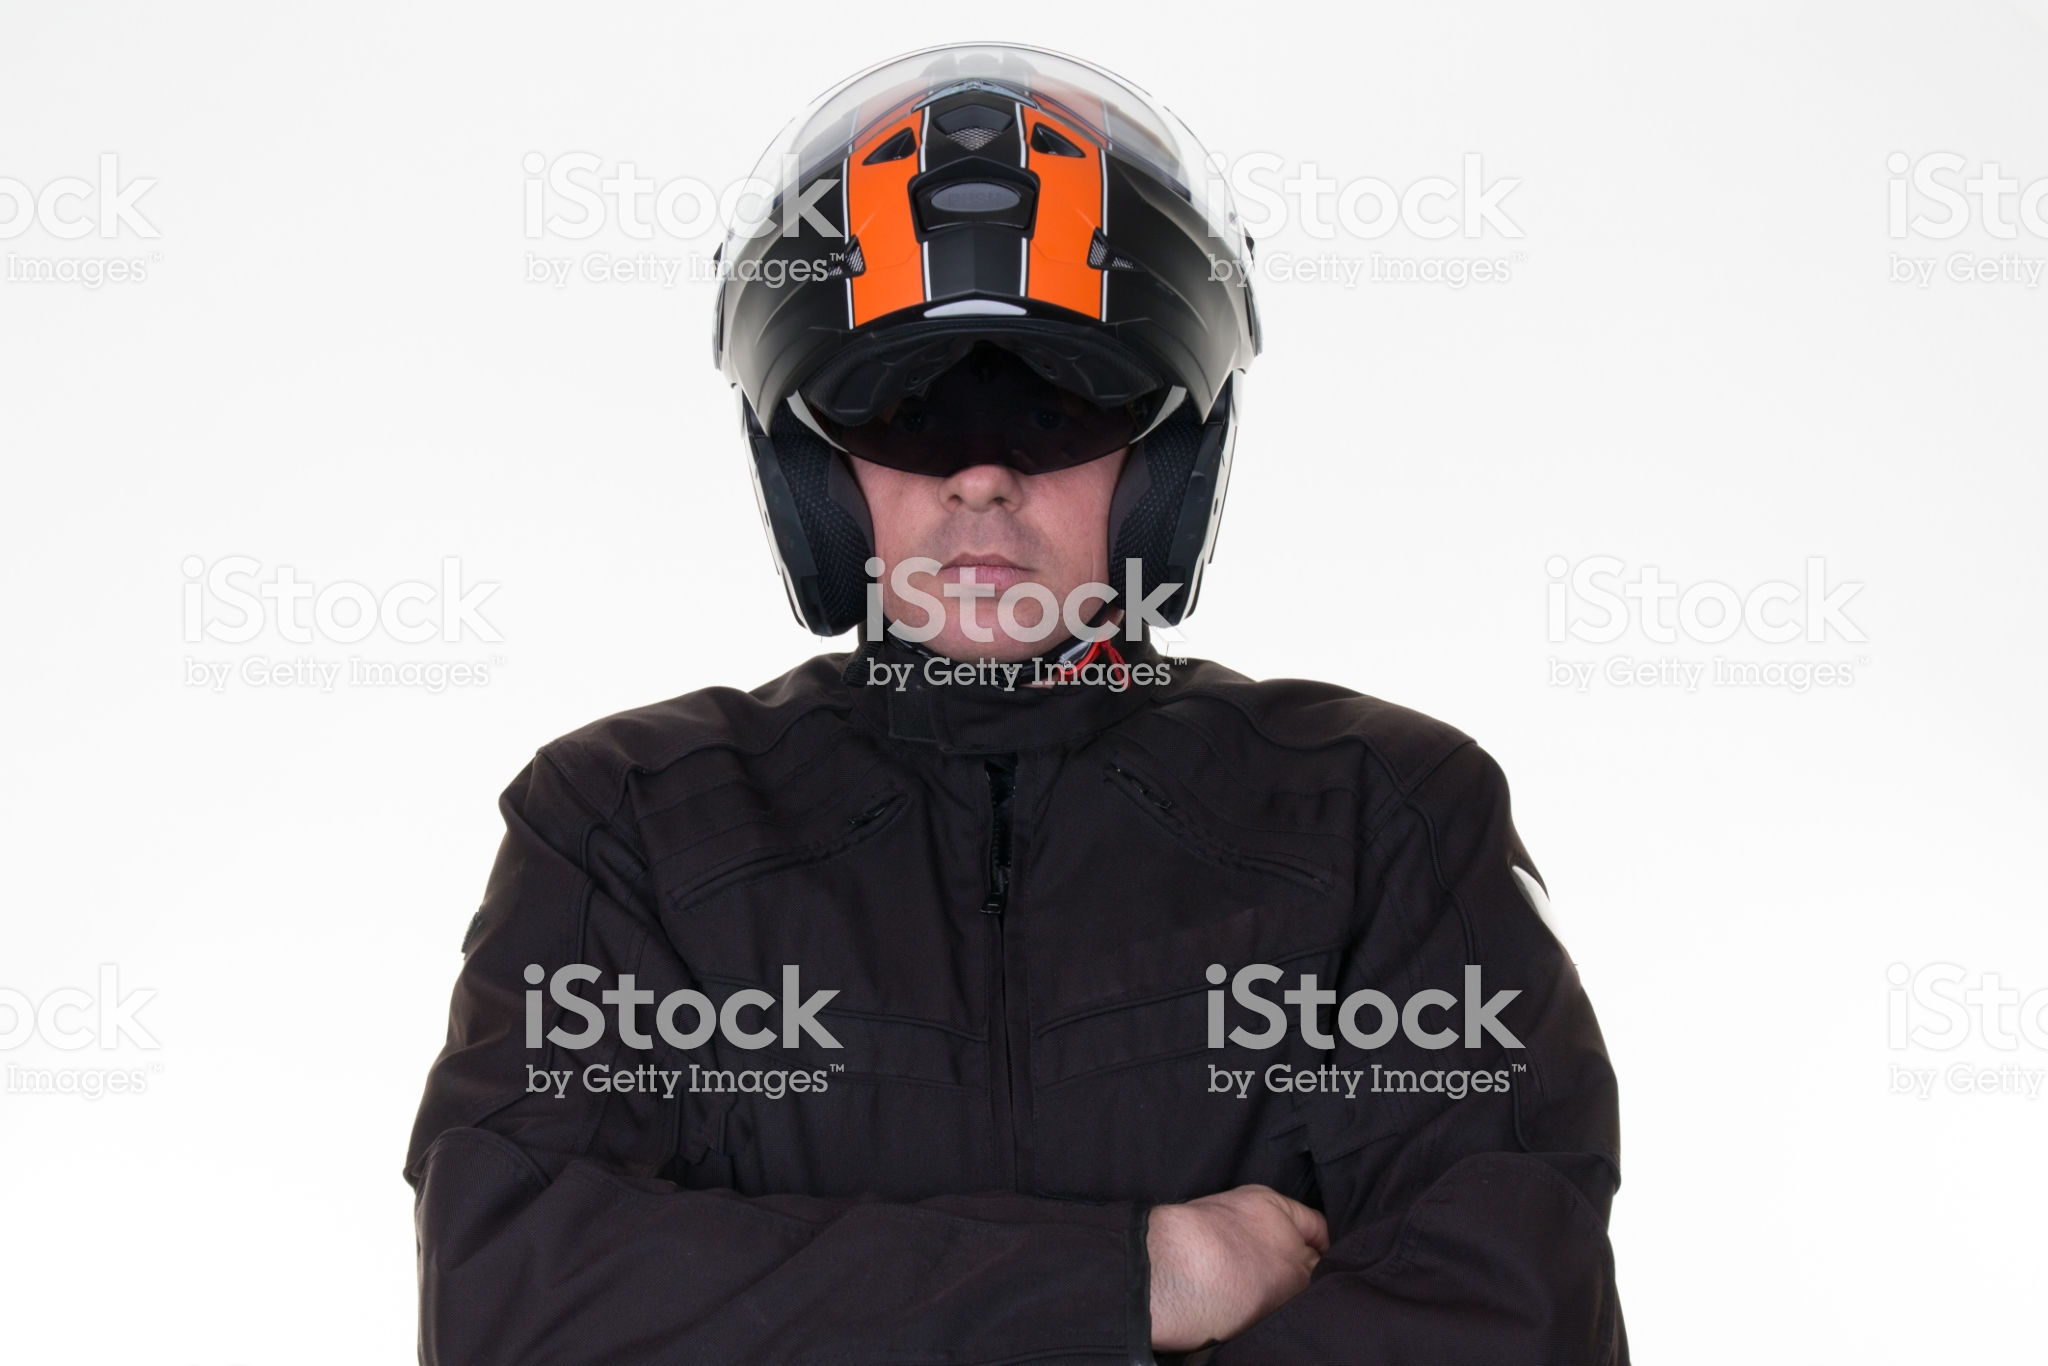helmet: (680, 66, 1271, 640)
